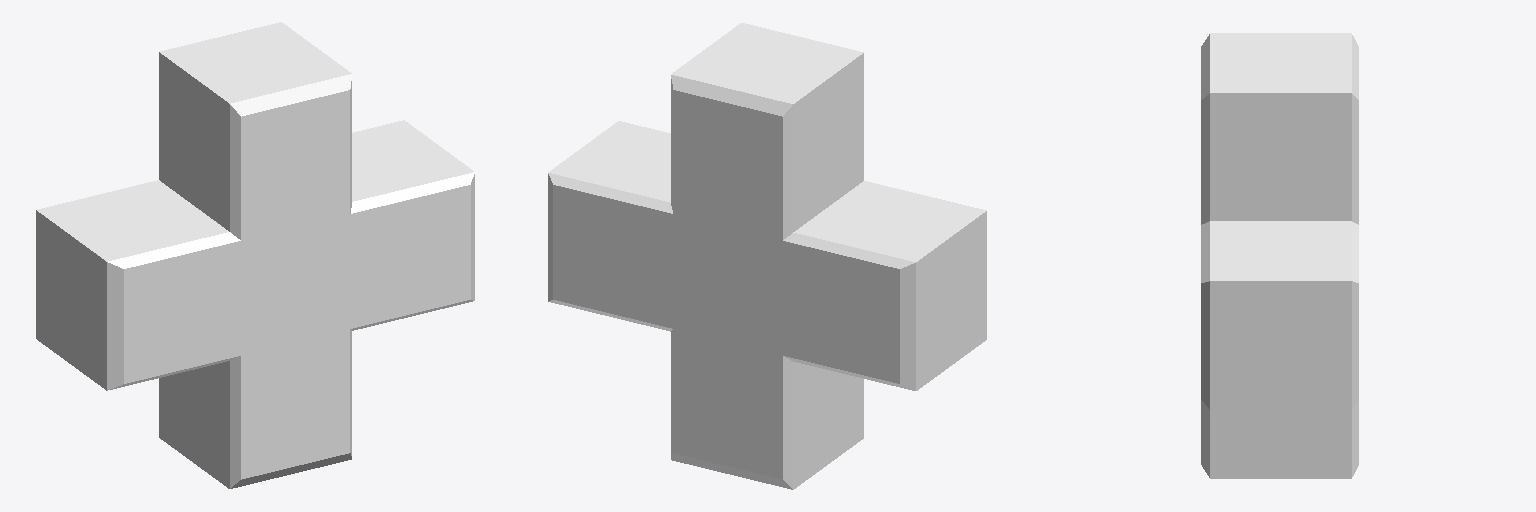
Rendered from Expand.obj.
3 views of the same model, side by side, from view 1: azimuth 30°, elevation 25°; view 2: azimuth 150°, elevation 25°; view 3: azimuth 270°, elevation 25° (orthographic).
Visible parts, largest first — view 1: pCube94_plus; view 2: pCube94_plus; view 3: pCube94_plus.
Boxes of the visible parts, <box> form: pCube94_plus: <box>36,22,474,488</box>; pCube94_plus: <box>548,23,986,489</box>; pCube94_plus: <box>1201,33,1358,478</box>.
Size of the model in its own units: 4.71 by 4.71 by 1.76.